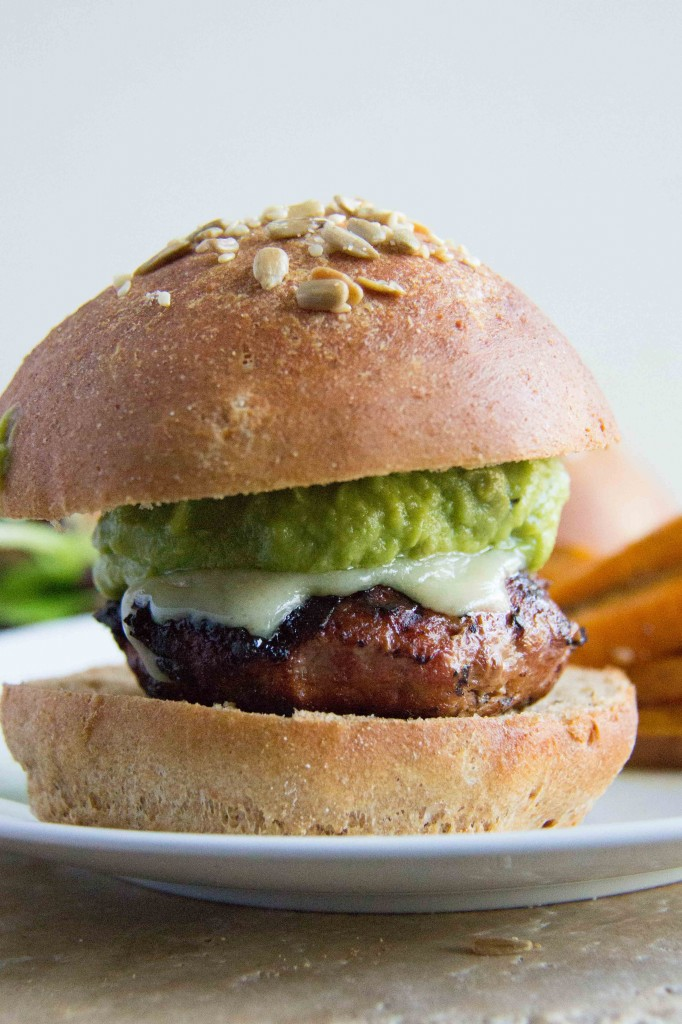hamburger_buns: (1, 216, 646, 852)
